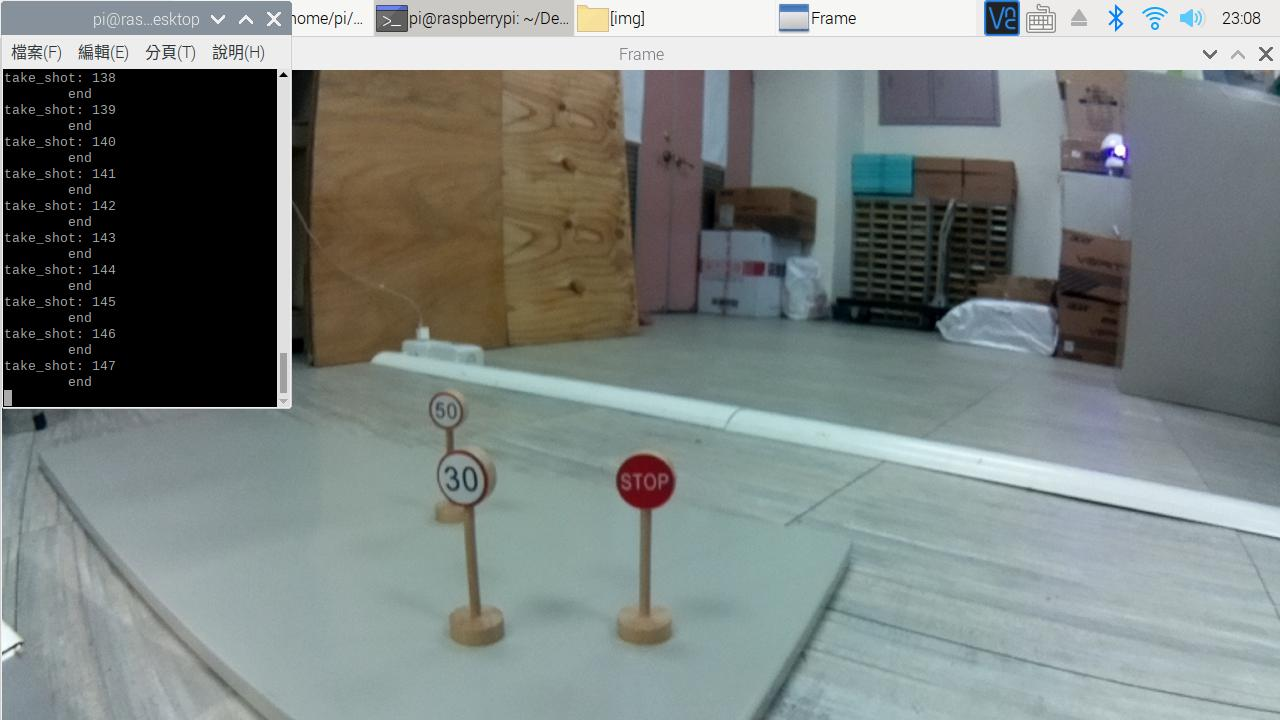Speed30: (421, 440, 531, 521)
Speed50: (399, 379, 491, 440)
Stop: (595, 440, 707, 534)
